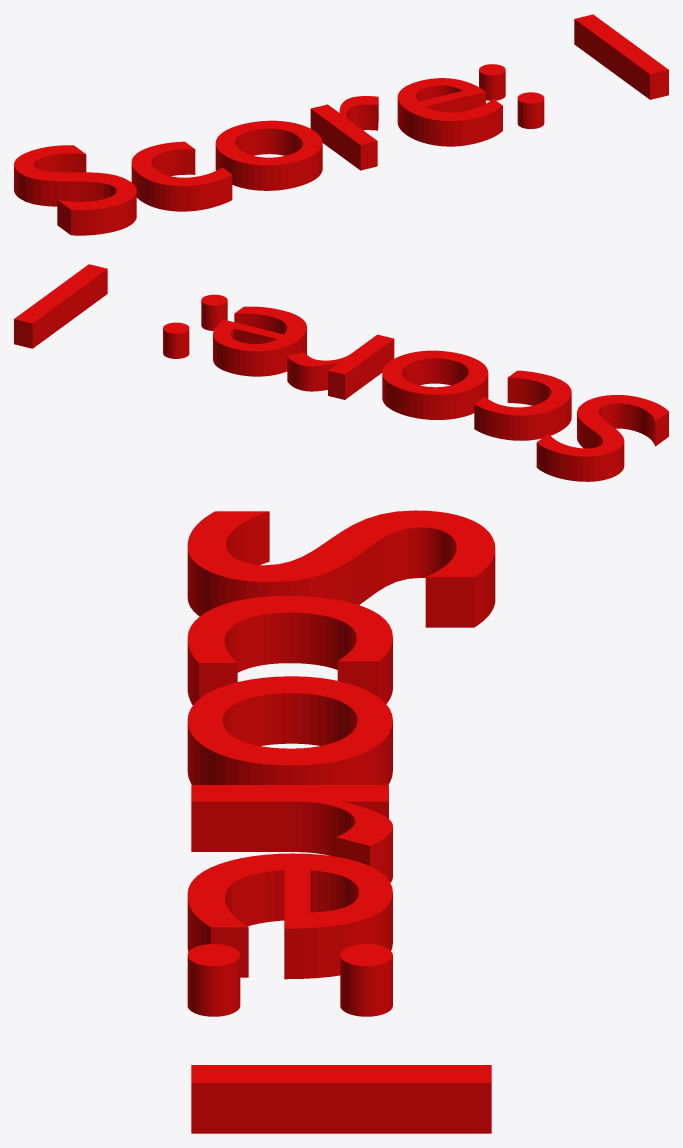
Rendered from ScoreCounter-1.obj.
The picture shows the model from 3 angles, top to bottom: view 1: azimuth 30°, elevation 25°; view 2: azimuth 150°, elevation 25°; view 3: azimuth 270°, elevation 25°; orthographic projection. The views are drawn at different scales.
Parts seen in each view (by area): view 1: Text_Text.003; view 2: Text_Text.003; view 3: Text_Text.003.
Boxes of the visible parts, x1,y1,x2,y2 form: Text_Text.003: (14, 14, 668, 235); Text_Text.003: (14, 264, 668, 481); Text_Text.003: (187, 510, 495, 1133).
Size of the model in its own units: 3.08 by 0.1266 by 0.7.
